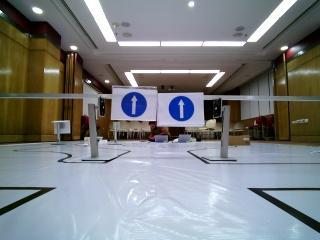straight: (158, 94, 204, 124), (114, 88, 154, 121)
